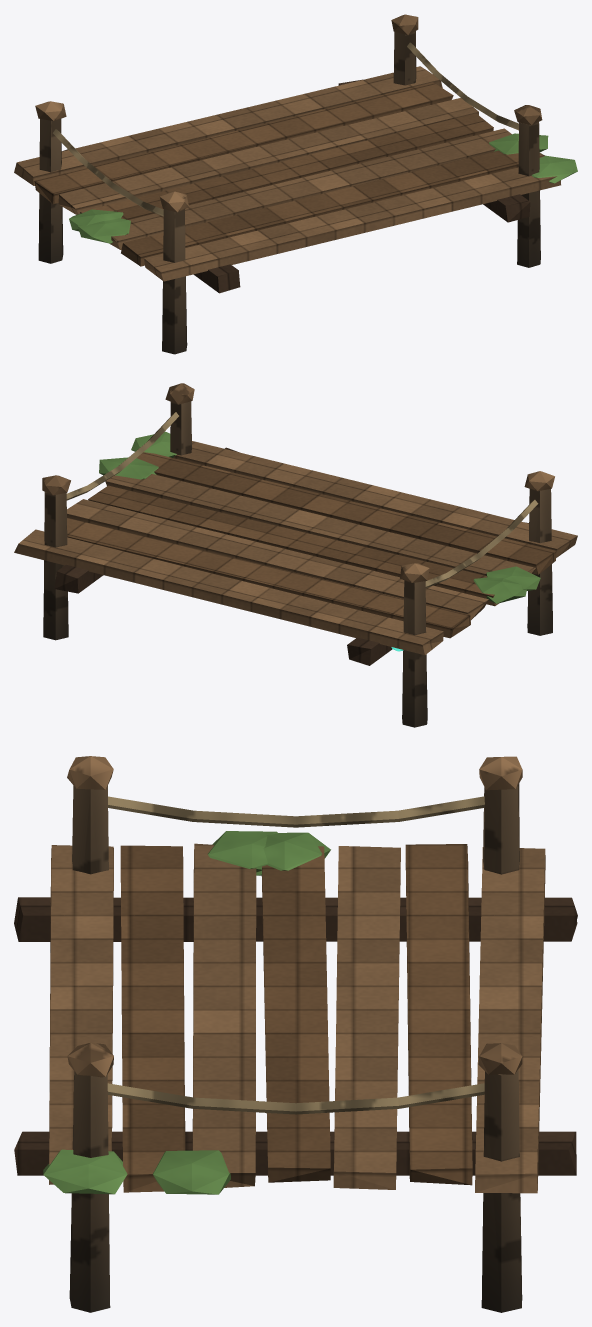
The model's file is boardwalk_slab.glb.
3 renders of one model, top to bottom at view 1: azimuth 30°, elevation 25°; view 2: azimuth 150°, elevation 25°; view 3: azimuth 270°, elevation 25°, orthographic. The views are drawn at different scales.
Parts seen in each view (by area): view 1: boardwalk_slab; view 2: boardwalk_slab; view 3: boardwalk_slab.
Boxes of the visible parts, x1=… form: boardwalk_slab: x1=14, y1=14, x2=577, y2=354; boardwalk_slab: x1=14, y1=383, x2=577, y2=727; boardwalk_slab: x1=14, y1=756, x2=577, y2=1312.
Size of the model in its own units: 4.82 by 1.61 by 3.16.
4 materials, 4 textured.
